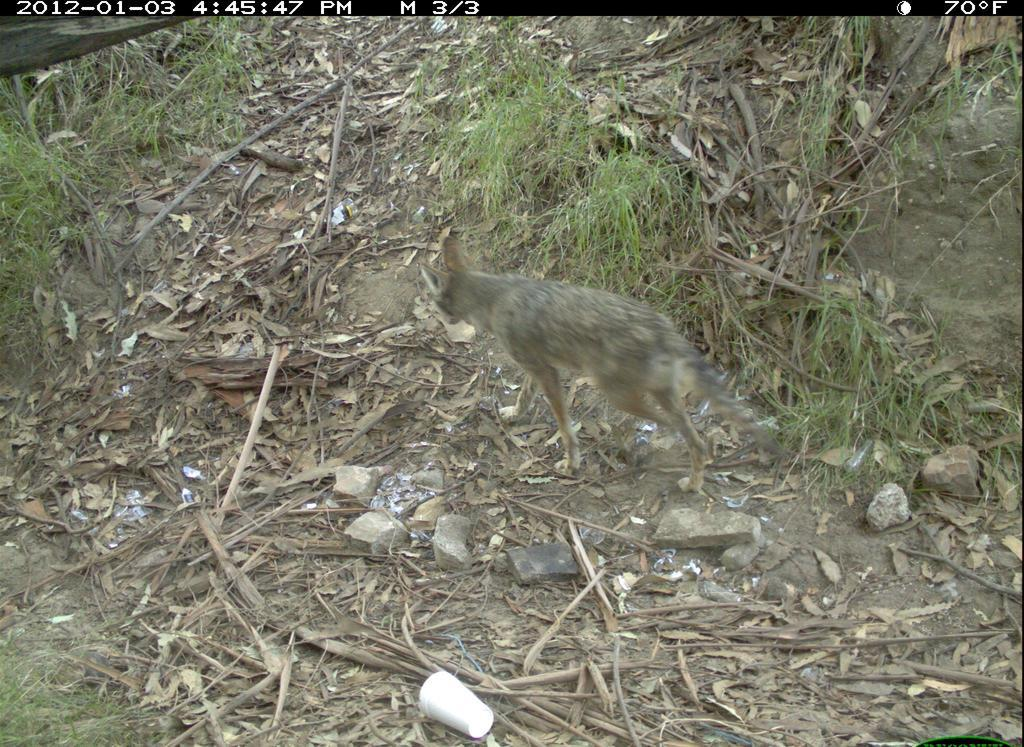coyote: (415, 228, 800, 501)
